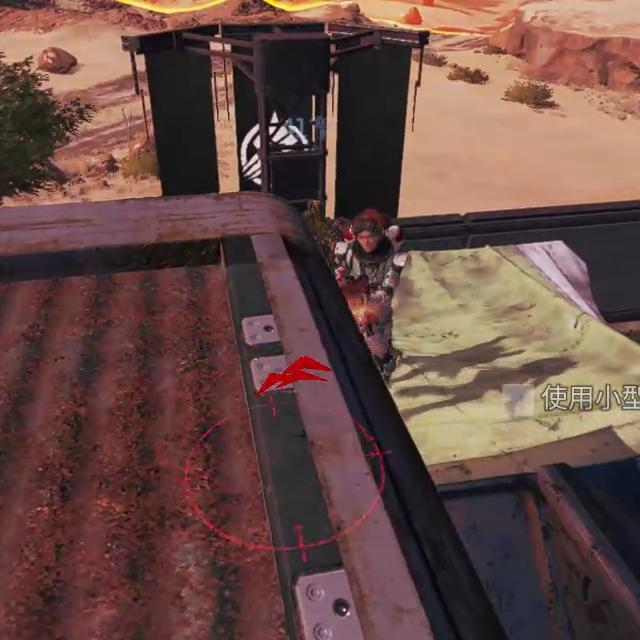avatar: (334, 212, 409, 382)
